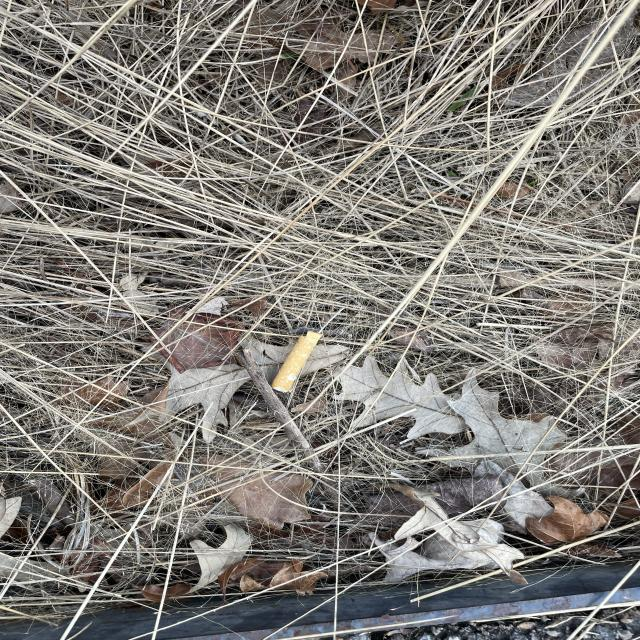cigarette: (258, 322, 331, 406)
trash-zQNu: (256, 319, 340, 409)
